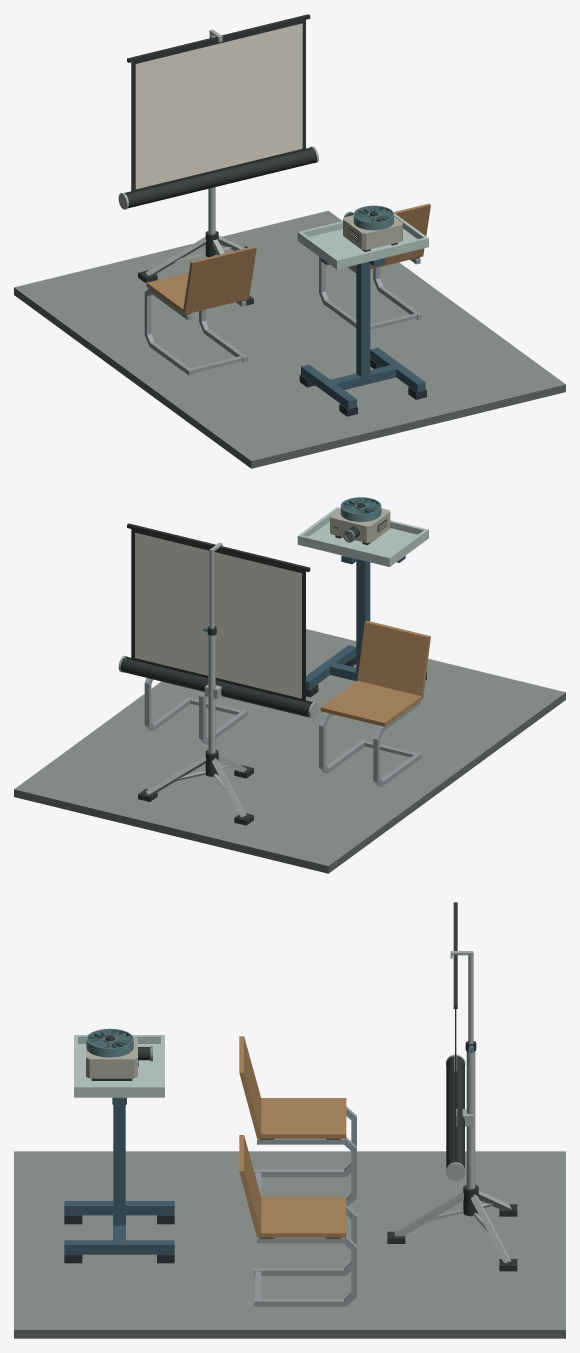
3 renders of one model, top to bottom at view 1: azimuth 30°, elevation 25°; view 2: azimuth 150°, elevation 25°; view 3: azimuth 270°, elevation 25°, orthographic. The views are drawn at different scales.
Parts seen in each view (by area): view 1: SCENE_ONLY__DisplayFloor, screen__WholeBlankScreenWithIntegralBorder, left_chair__WholeContinuousSeatAndBackShell, stand__Continuous_EmptyShallowTray, screen__WholeContinuousSlottedRollCase, stand__Continuous_LowHBase, stand__Fixed_StraightCentralColumn, projector__WholeChamferedLowCase, right_chair__WholeContinuousSeatAndBackShell, screen__WholeTopRetainingRail, left_chair__RightWholeReturnCantileverFrame, right_chair__RightWholeReturnCantileverFrame (+3 smaller); view 2: SCENE_ONLY__DisplayFloor, screen__WholeBlankScreenWithIntegralBorder, left_chair__WholeContinuousSeatAndBackShell, stand__Continuous_EmptyShallowTray, screen__WholeContinuousSlottedRollCase, stand__Fixed_StraightCentralColumn, stand__Continuous_LowHBase, projector__WholeChamferedLowCase, screen__WholeTopRetainingRail, left_chair__RightWholeReturnCantileverFrame, screen__WholeRearOuterMast, left_chair__LeftWholeReturnCantileverFrame (+4 smaller); view 3: SCENE_ONLY__DisplayFloor, left_chair__WholeContinuousSeatAndBackShell, right_chair__WholeContinuousSeatAndBackShell, stand__Continuous_LowHBase, stand__Continuous_EmptyShallowTray, screen__WholeContinuousSlottedRollCase, right_chair__LeftWholeReturnCantileverFrame, stand__Fixed_StraightCentralColumn, projector__WholeChamferedLowCase, screen__WholeRearOuterMast, left_chair__LeftWholeReturnCantileverFrame, right_chair__RightWholeReturnCantileverFrame (+5 smaller).
Part boxes in pixels (left/top/right/bottom): SCENE_ONLY__DisplayFloor: left=14, top=210, right=565, bottom=468; screen__WholeBlankScreenWithIntegralBorder: left=131, top=20, right=305, bottom=192; left_chair__WholeContinuousSeatAndBackShell: left=146, top=246, right=256, bottom=314; stand__Continuous_EmptyShallowTray: left=297, top=213, right=428, bottom=269; screen__WholeContinuousSlottedRollCase: left=124, top=147, right=316, bottom=208; stand__Continuous_LowHBase: left=301, top=347, right=425, bottom=409; stand__Fixed_StraightCentralColumn: left=356, top=262, right=370, bottom=377; projector__WholeChamferedLowCase: left=343, top=215, right=402, bottom=250; right_chair__WholeContinuousSeatAndBackShell: left=351, top=203, right=430, bottom=269; screen__WholeTopRetainingRail: left=127, top=14, right=310, bottom=62; left_chair__RightWholeReturnCantileverFrame: left=144, top=288, right=193, bottom=375; right_chair__RightWholeReturnCantileverFrame: left=319, top=256, right=356, bottom=327; SCENE_ONLY__DisplayFloor: left=14, top=629, right=565, bottom=873; screen__WholeBlankScreenWithIntegralBorder: left=131, top=529, right=305, bottom=702; left_chair__WholeContinuousSeatAndBackShell: left=320, top=620, right=430, bottom=726; stand__Continuous_EmptyShallowTray: left=297, top=507, right=428, bottom=566; screen__WholeContinuousSlottedRollCase: left=120, top=656, right=312, bottom=717; stand__Fixed_StraightCentralColumn: left=356, top=559, right=370, bottom=672; stand__Continuous_LowHBase: left=306, top=645, right=358, bottom=689; projector__WholeChamferedLowCase: left=330, top=508, right=390, bottom=542; screen__WholeTopRetainingRail: left=127, top=523, right=310, bottom=571; left_chair__RightWholeReturnCantileverFrame: left=373, top=701, right=421, bottom=786; screen__WholeRearOuterMast: left=208, top=635, right=215, bottom=753; left_chair__LeftWholeReturnCantileverFrame: left=319, top=712, right=367, bottom=773; SCENE_ONLY__DisplayFloor: left=14, top=1151, right=565, bottom=1338; left_chair__WholeContinuousSeatAndBackShell: left=239, top=1036, right=346, bottom=1138; right_chair__WholeContinuousSeatAndBackShell: left=239, top=1135, right=346, bottom=1237; stand__Continuous_LowHBase: left=64, top=1201, right=174, bottom=1254; stand__Continuous_EmptyShallowTray: left=74, top=1035, right=164, bottom=1097; screen__WholeContinuousSlottedRollCase: left=446, top=1056, right=464, bottom=1167; right_chair__LeftWholeReturnCantileverFrame: left=254, top=1236, right=356, bottom=1306; stand__Fixed_StraightCentralColumn: left=113, top=1104, right=125, bottom=1225; projector__WholeChamferedLowCase: left=86, top=1036, right=137, bottom=1078; screen__WholeRearOuterMast: left=466, top=1051, right=475, bottom=1189; left_chair__LeftWholeReturnCantileverFrame: left=257, top=1137, right=356, bottom=1205; right_chair__RightWholeReturnCantileverFrame: left=254, top=1205, right=356, bottom=1275.
Size of the model in its own units: 2.6 by 2.02 by 3.4.
